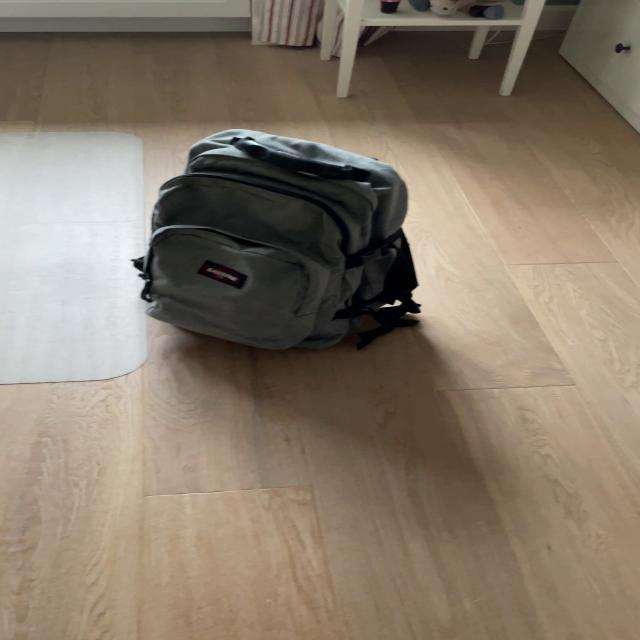backpack: (128, 120, 429, 357)
